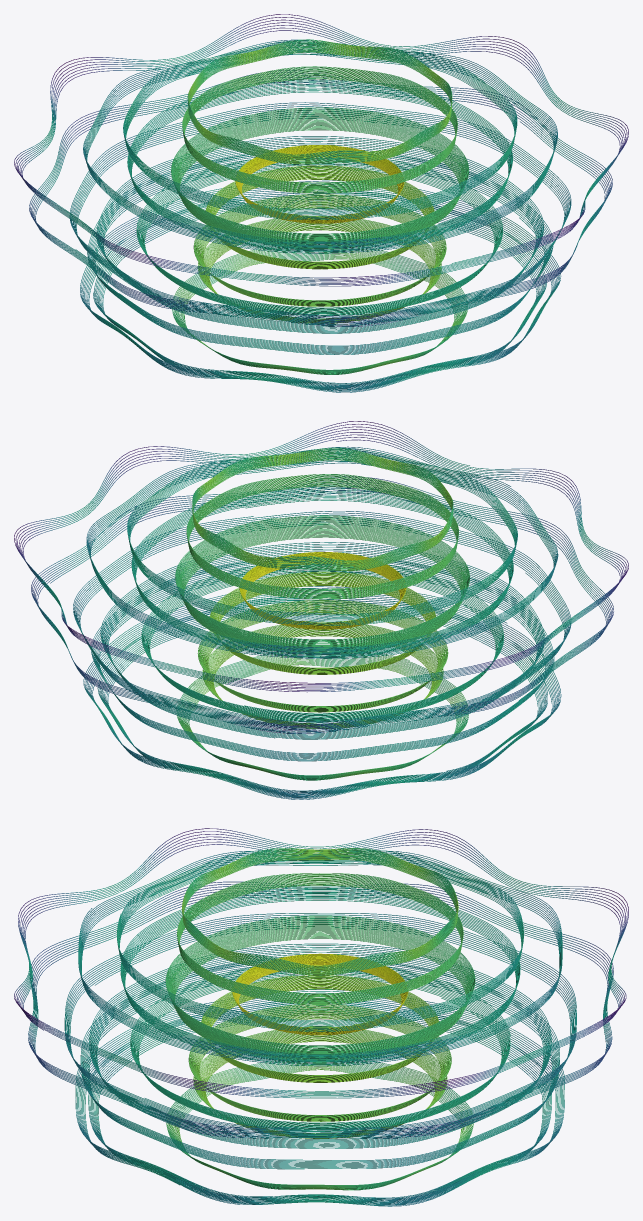
File: coil_3_field_lines.gltf
3 renders of one model, top to bottom at view 1: azimuth 30°, elevation 25°; view 2: azimuth 150°, elevation 25°; view 3: azimuth 270°, elevation 25°, orthographic. The views are drawn at different scales.
Parts seen in each view (by area): view 1: Renderer Node; view 2: Renderer Node; view 3: Renderer Node.
Part boxes in pixels (x1=…): Renderer Node: x1=14, y1=14, x2=628, y2=392; Renderer Node: x1=14, y1=421, x2=628, y2=799; Renderer Node: x1=14, y1=828, x2=628, y2=1206.
Bounding box in the file's own units: 1.09 × 0.4606 × 1.1.
1 material, 1 textured.
